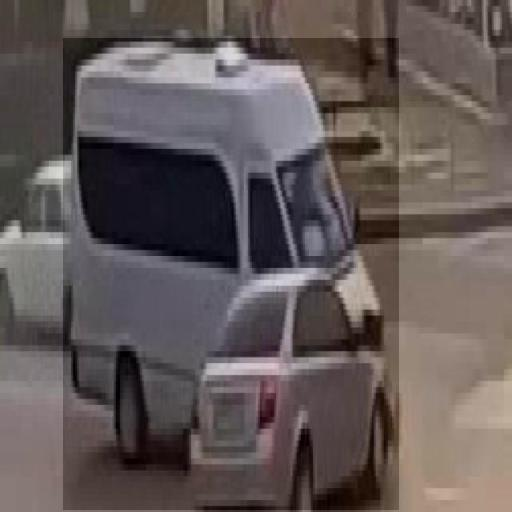小汽车撞小汽车: (63, 38, 399, 510)
